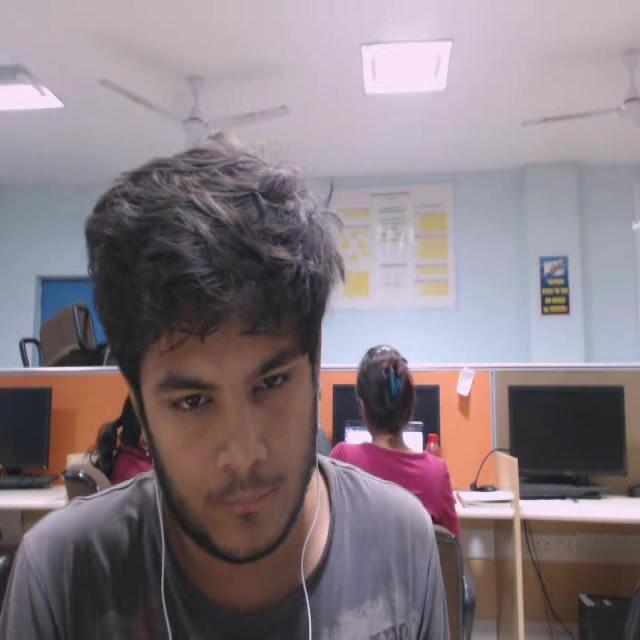Engaged: (76, 151, 358, 598)
